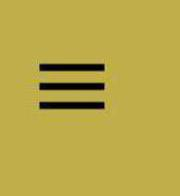ImgButton: (1, 1, 179, 195)
